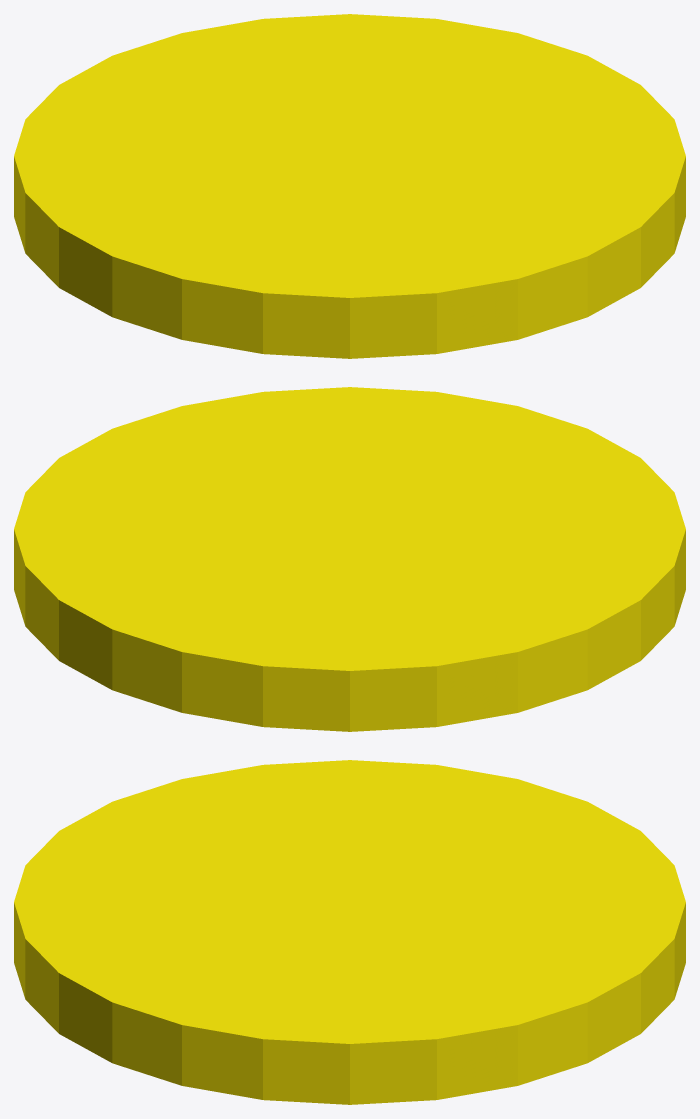
Rendered from Gold_Coin.fbx.
3 renders of one model, top to bottom at view 1: azimuth 30°, elevation 25°; view 2: azimuth 150°, elevation 25°; view 3: azimuth 270°, elevation 25°, orthographic.
Parts seen in each view (by area): view 1: Gold_Coin; view 2: Gold_Coin; view 3: Gold_Coin.
Part boxes in pixels (bbox=[...]): Gold_Coin: bbox=[14, 14, 685, 358]; Gold_Coin: bbox=[14, 387, 685, 731]; Gold_Coin: bbox=[14, 760, 685, 1104].
Size of the model in its own units: 0.3 by 0.03 by 0.3.
